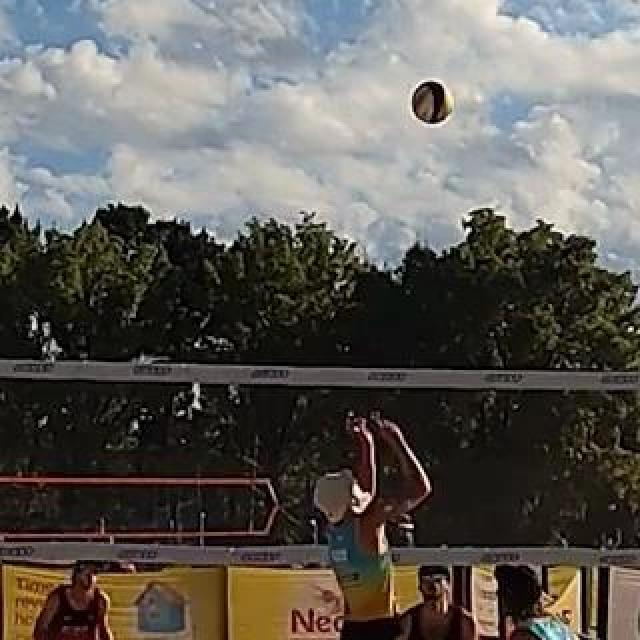volleyball: (411, 79, 453, 125)
